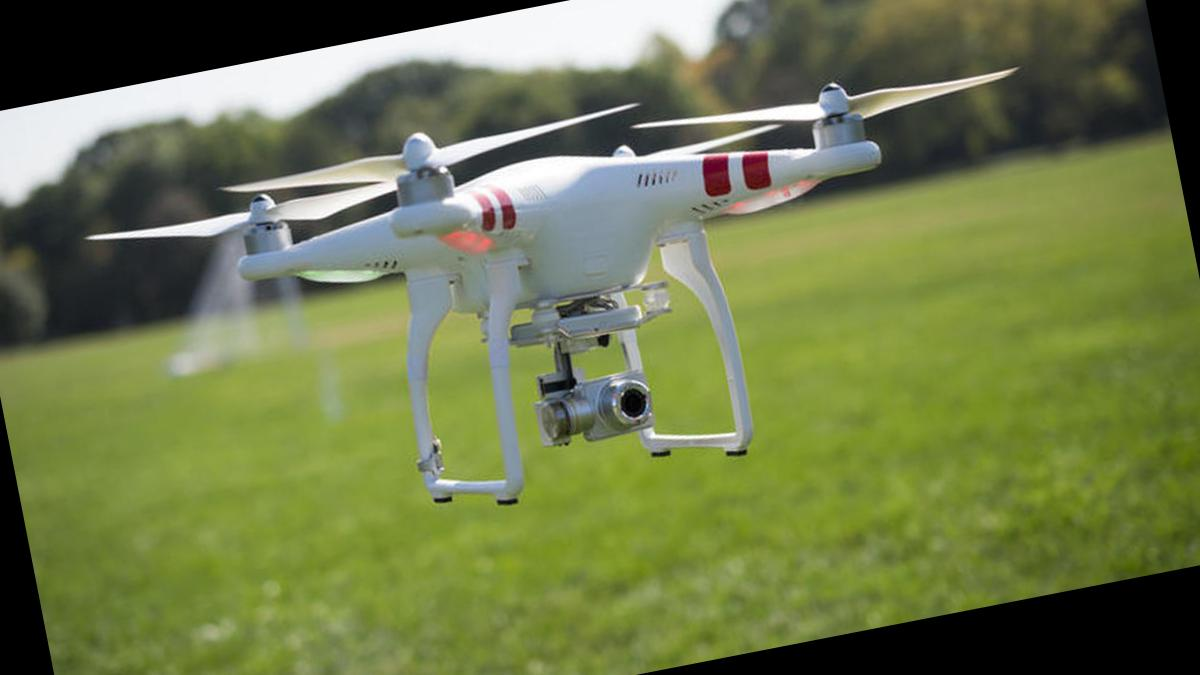drone: (121, 0, 1085, 479)
